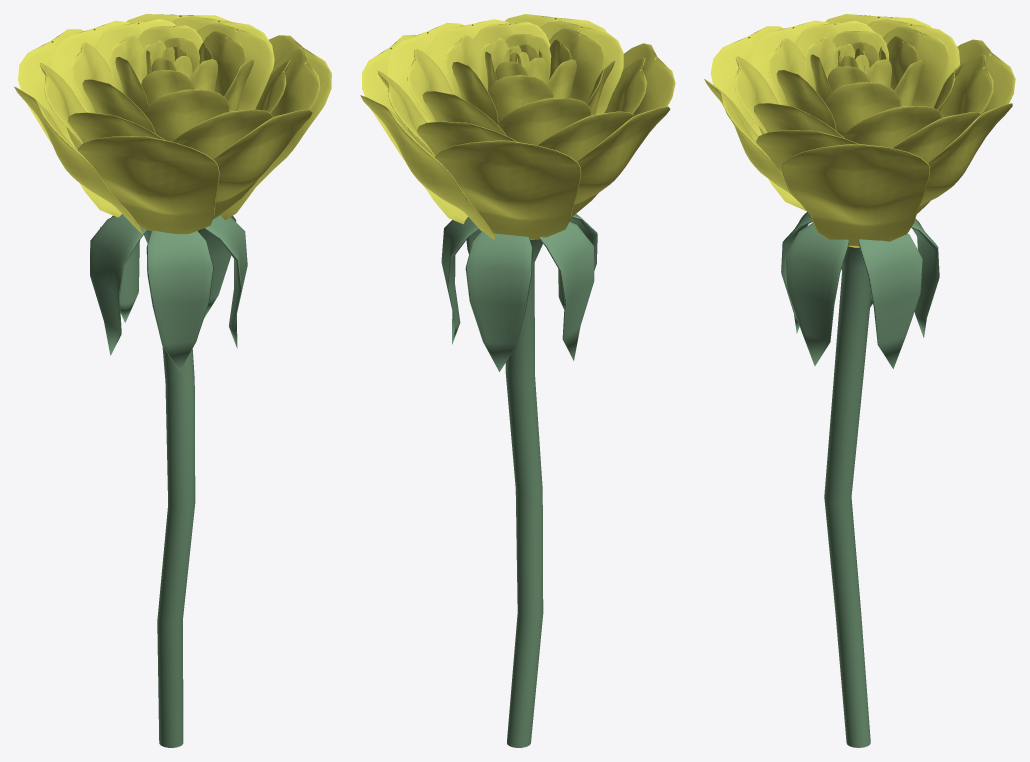
The model's file is YellowRose_Low.fbx.
3 views of the same model, side by side, from view 1: azimuth 30°, elevation 25°; view 2: azimuth 150°, elevation 25°; view 3: azimuth 270°, elevation 25° (orthographic).
Parts seen in each view (by area): view 1: Rose4_RoseFlower_low; view 2: Rose4_RoseFlower_low; view 3: Rose4_RoseFlower_low.
Part boxes in pixels (bbox=[...]): Rose4_RoseFlower_low: bbox=[14, 14, 331, 747]; Rose4_RoseFlower_low: bbox=[360, 14, 675, 747]; Rose4_RoseFlower_low: bbox=[704, 14, 1015, 747].
Bounding box in the file's own units: 3.27 × 8.03 × 3.27.
